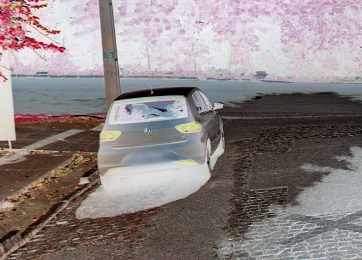car: (93, 75, 230, 194)
